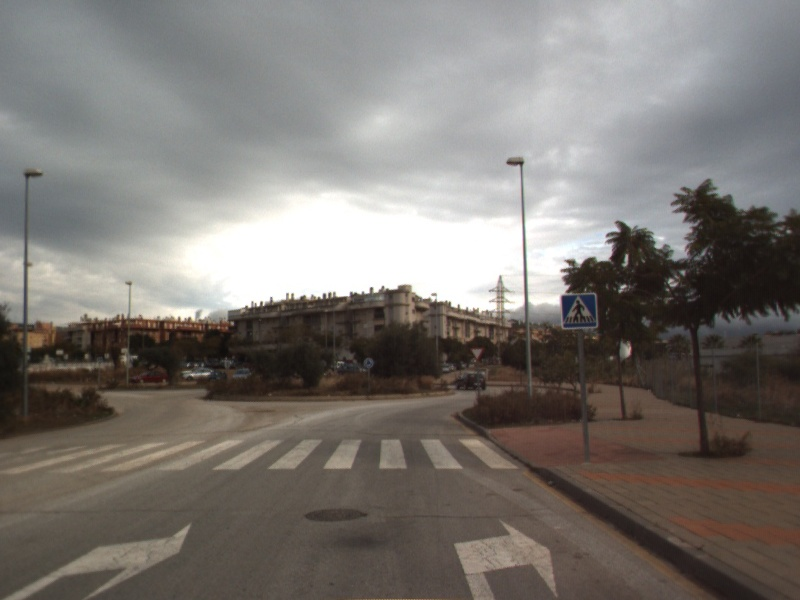RIGHT: (1, 518, 194, 600), (451, 516, 560, 600)
